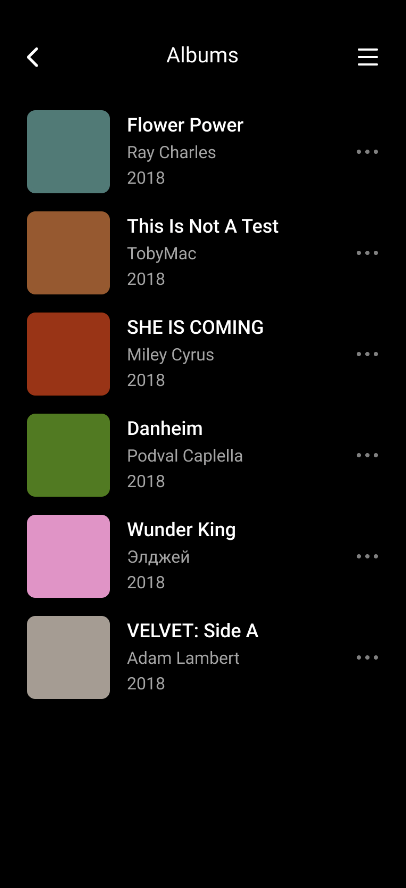AppBar: (1, 1, 406, 72)
